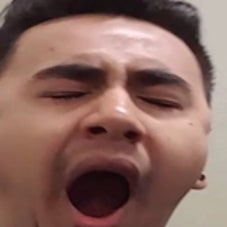drowsy: (26, 55, 196, 227)
